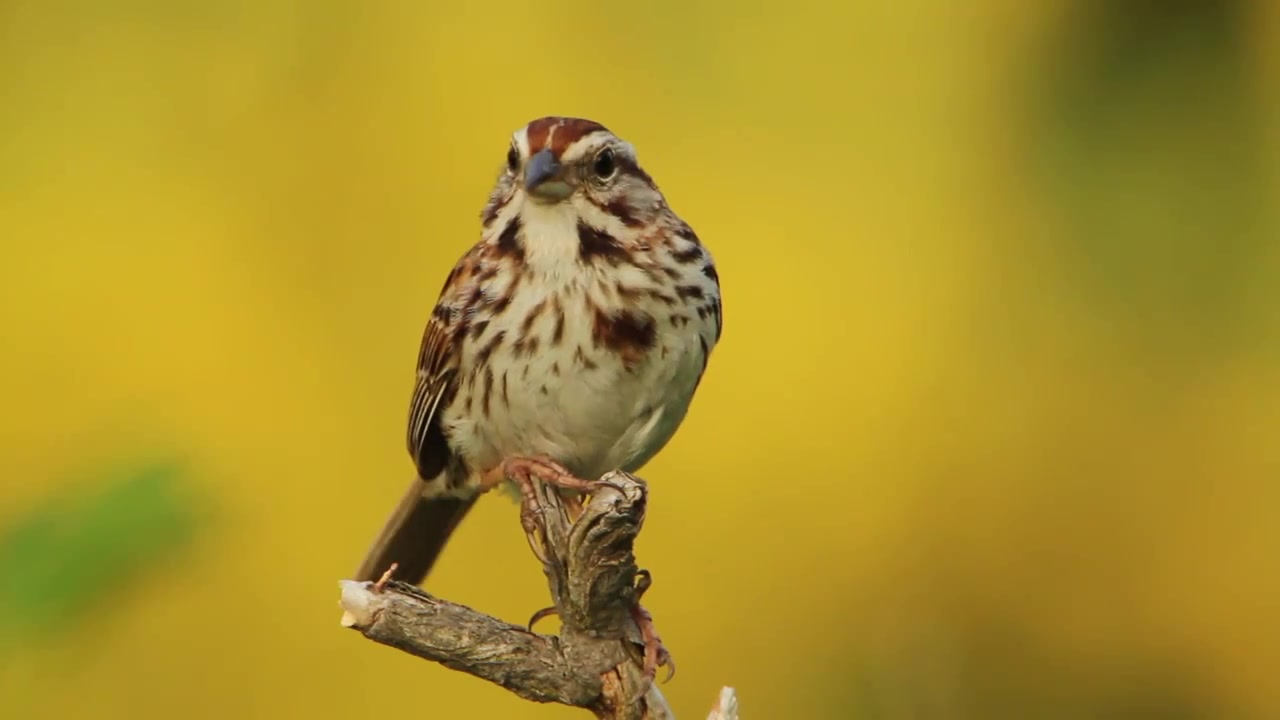bird: (352, 115, 725, 710)
